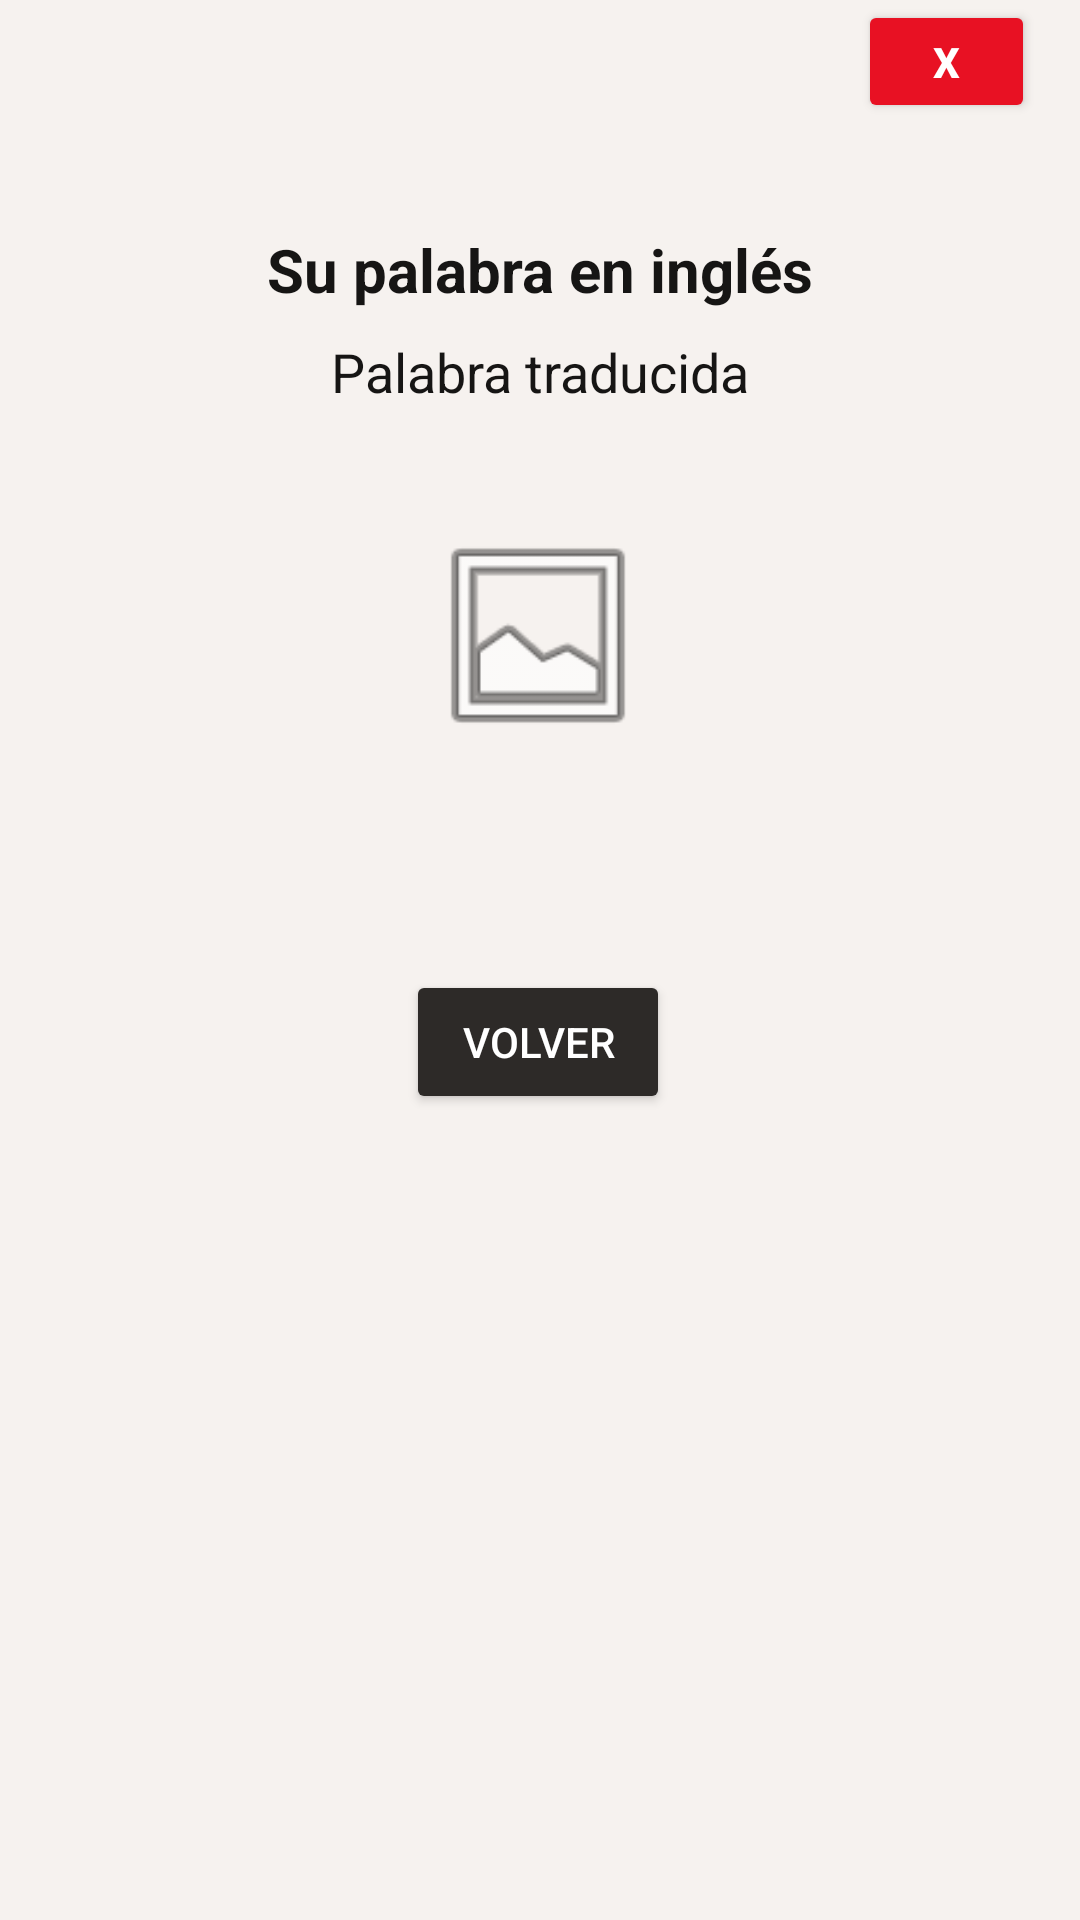

Icon bounding boxes for this 1080x1920 phone screenshot, format (left=x1, top=y1, right=x2, bottom=y2):
gallery: (left=450, top=548, right=626, bottom=723)
